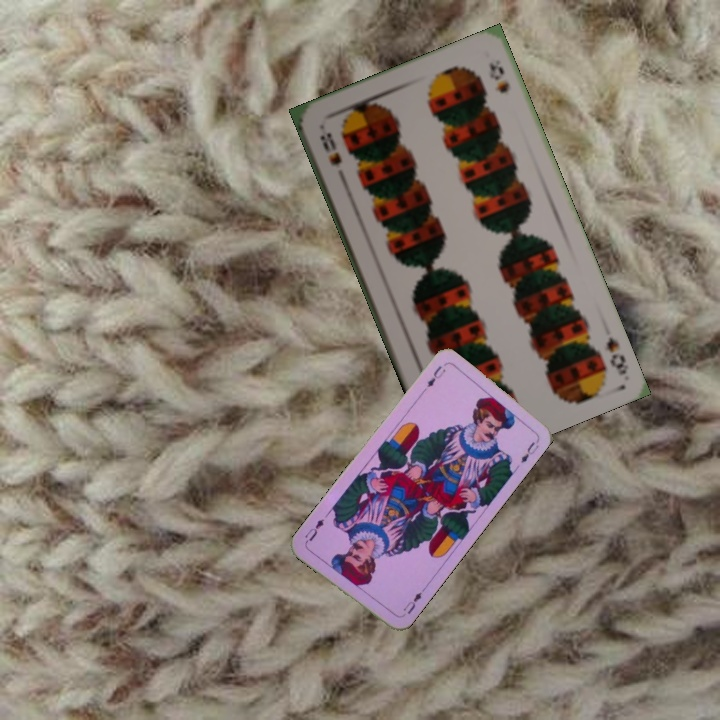EU: (417, 361, 448, 396), (399, 585, 428, 616)
S8: (600, 332, 631, 378), (316, 128, 344, 169)
